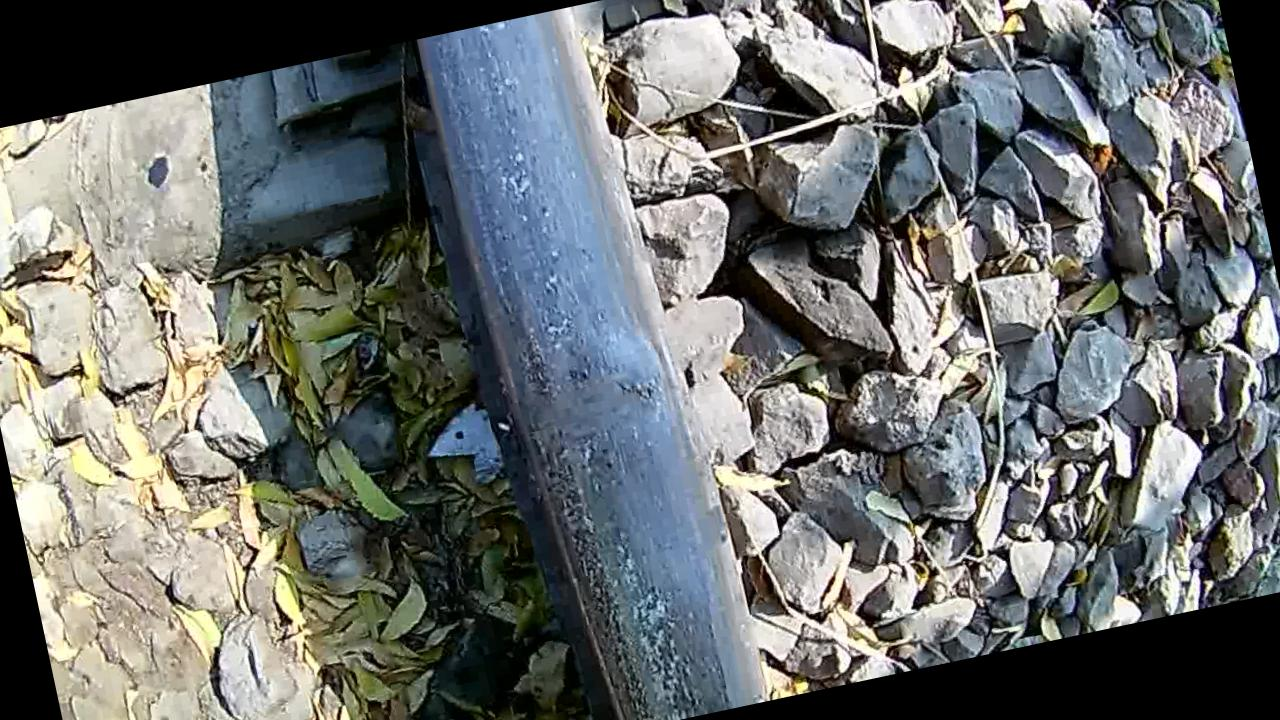bolt_missing: (509, 285, 738, 720)
